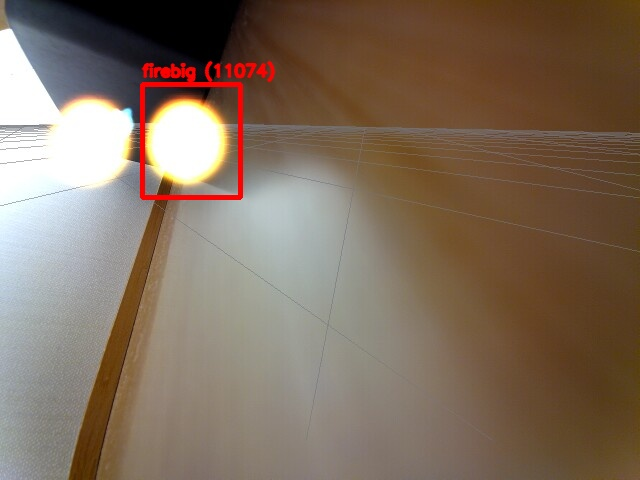firebig: (142, 84, 240, 197)
